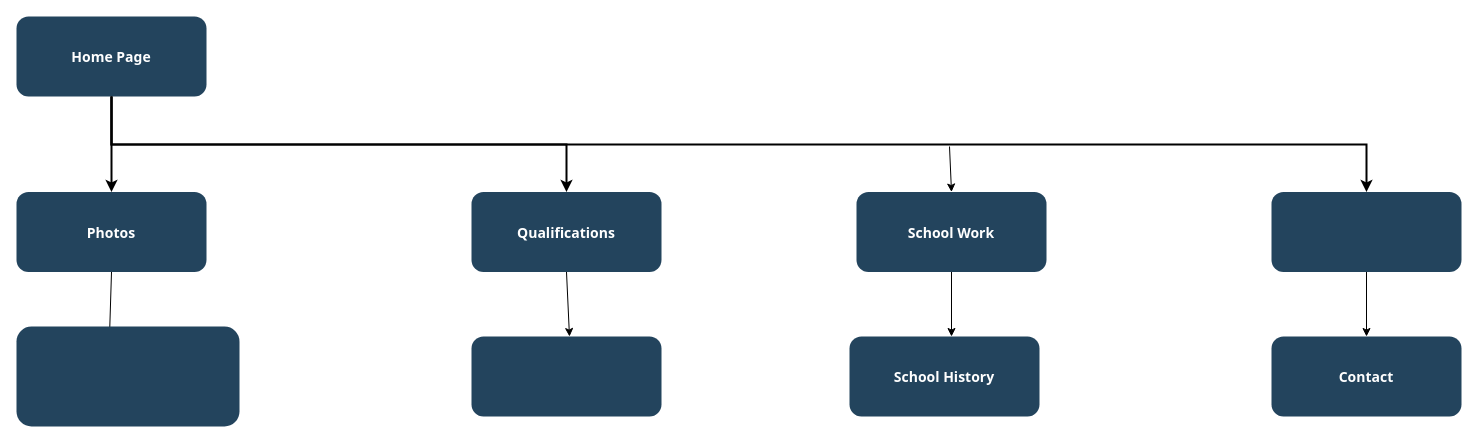
This 1478x443 diagram has some shape labels left out. The centre of each missing label's shape, as x and y in pixels:
"About Me" goes at (1366,232).
"Photos of Client/Work Photos" goes at (127,376).
"Work History" goes at (566,376).
